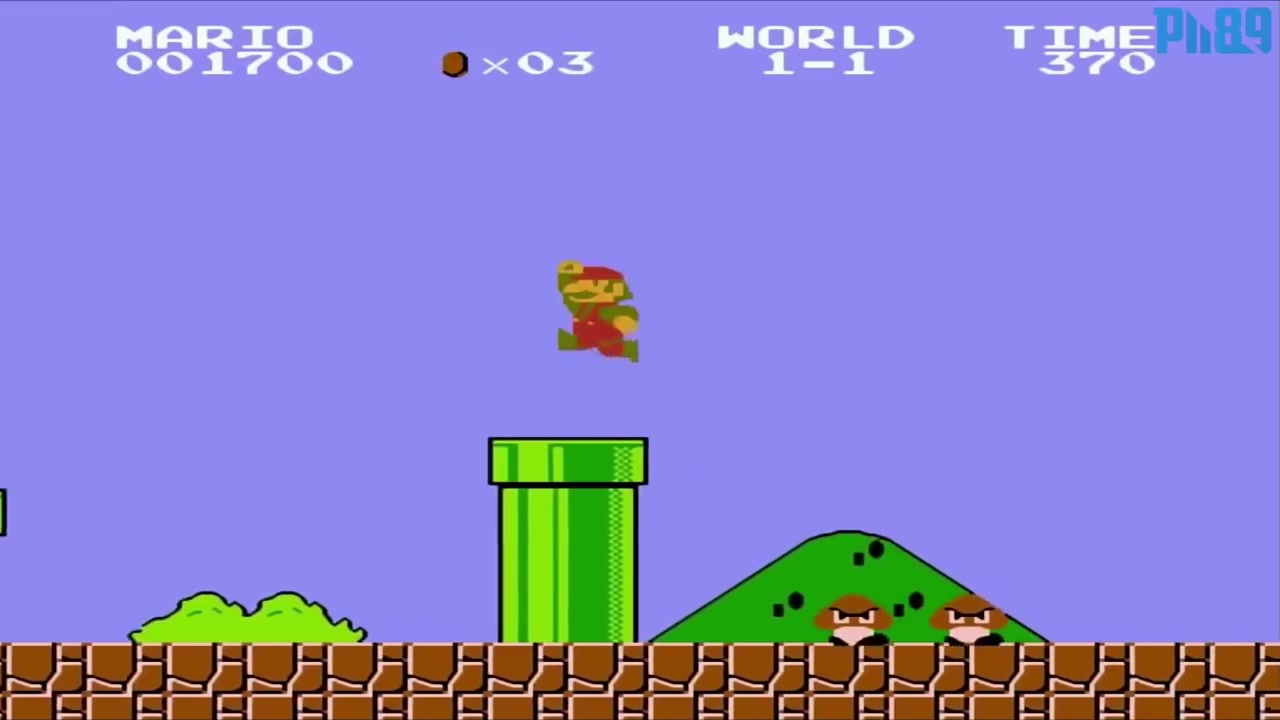mario: (544, 252, 658, 368)
